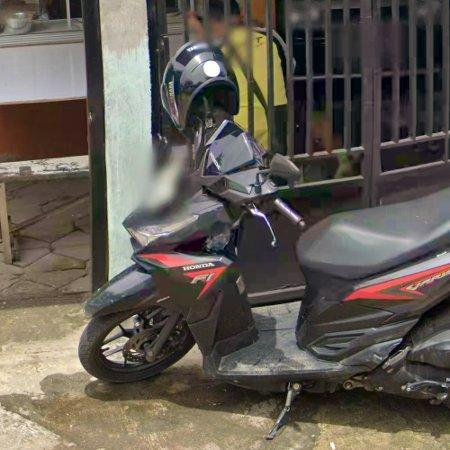motorcycles: (79, 42, 450, 436)
